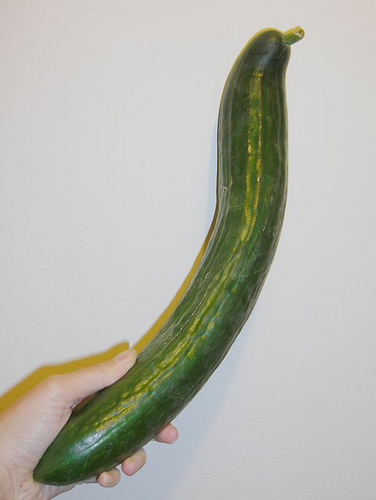cucumber: (32, 25, 315, 478)
